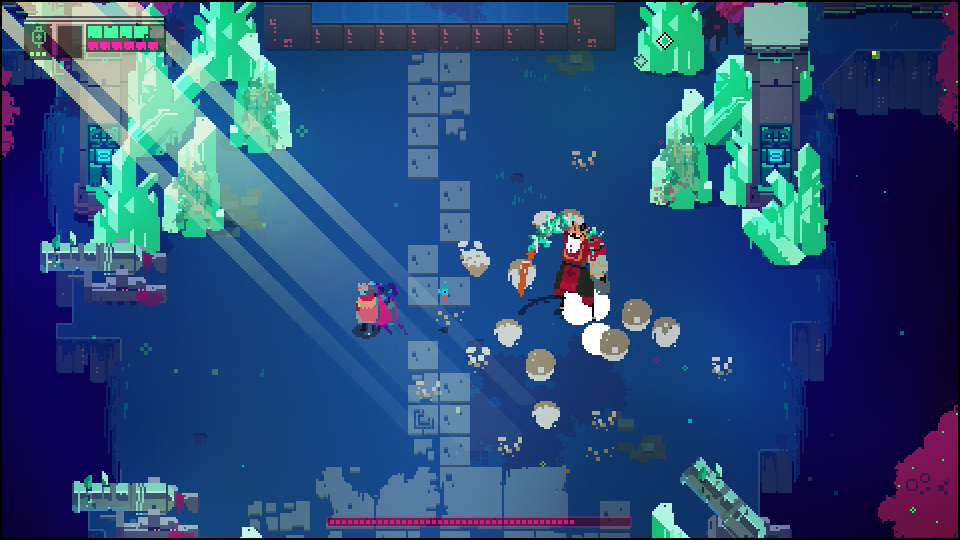hanged_man: (511, 205, 613, 323)
player: (352, 279, 384, 339)
